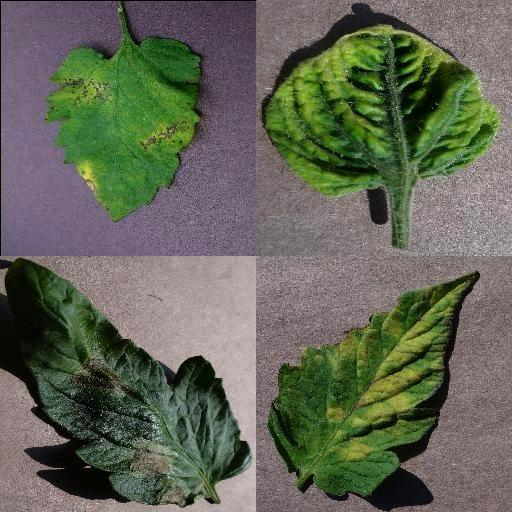Late Blight: (5, 257, 253, 507)
Leaf Mold: (270, 272, 480, 500)
Septoria: (42, 38, 202, 224)
Yellow Leaf Curl Virus: (263, 23, 498, 195)
